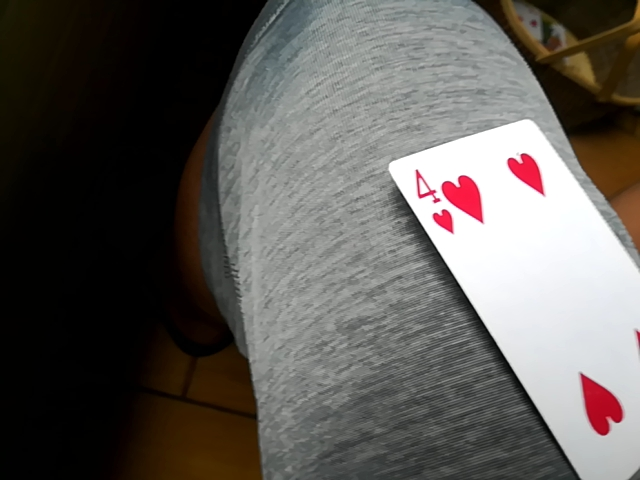hx 4: (381, 115, 640, 477)
